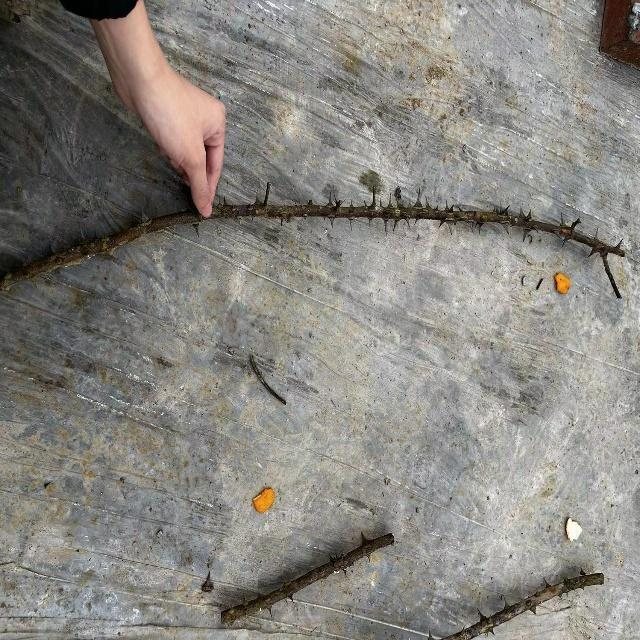branch: (32, 203, 627, 269)
